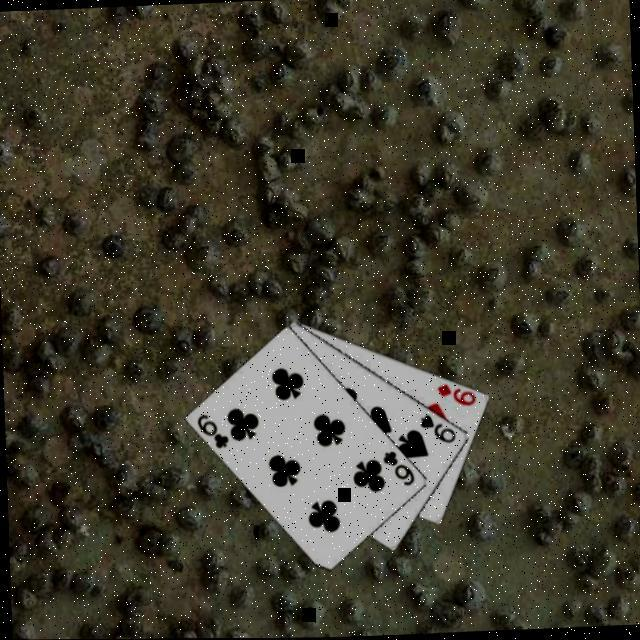6C: (380, 446, 419, 488), (195, 410, 232, 451)
9D: (434, 380, 478, 408)
9S: (417, 410, 460, 445)
